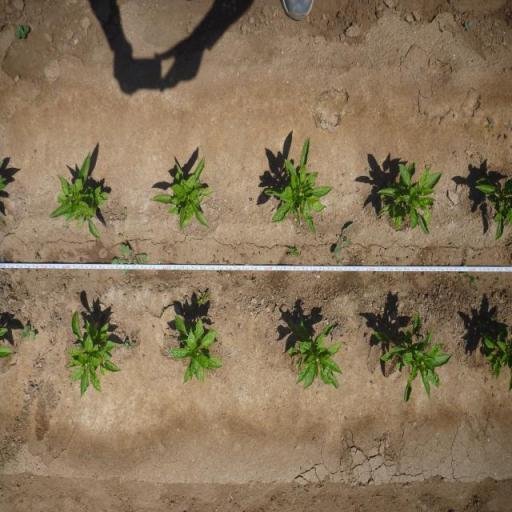plant: (370, 306, 456, 406), (260, 135, 336, 234), (47, 149, 111, 241), (374, 160, 444, 238), (65, 310, 121, 400), (151, 154, 213, 232), (284, 316, 344, 393), (168, 313, 224, 386), (473, 173, 512, 241), (482, 331, 512, 392)
weed: (124, 244, 148, 274), (334, 222, 355, 256), (11, 22, 33, 42), (462, 262, 478, 284), (20, 324, 38, 342), (195, 290, 211, 310), (111, 244, 125, 265), (285, 244, 301, 260), (484, 116, 496, 134), (461, 19, 474, 33), (120, 206, 129, 224), (375, 258, 390, 266), (122, 338, 130, 352), (130, 336, 137, 348), (34, 252, 42, 262), (159, 308, 165, 318), (240, 252, 247, 260), (478, 156, 485, 164), (78, 256, 84, 264), (217, 271, 223, 278), (226, 259, 231, 266), (64, 226, 70, 231), (213, 254, 216, 264), (422, 260, 428, 265), (462, 257, 467, 263), (320, 233, 324, 240), (238, 323, 242, 330), (186, 260, 191, 265), (86, 274, 90, 280), (222, 258, 226, 264), (252, 279, 256, 285), (332, 256, 338, 260), (117, 233, 122, 237), (142, 355, 146, 360), (152, 326, 154, 332)
